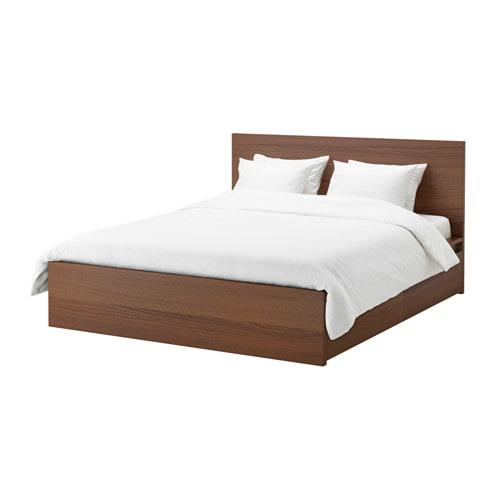bed: (37, 129, 479, 374)
